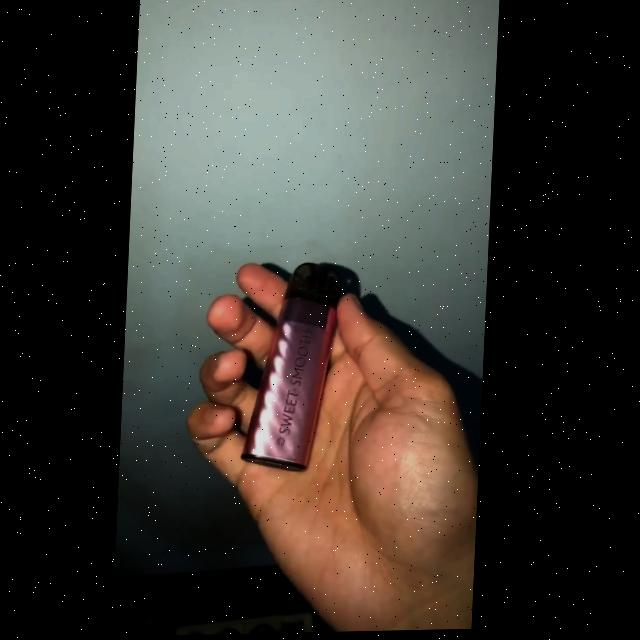vape: (247, 262, 347, 471)
